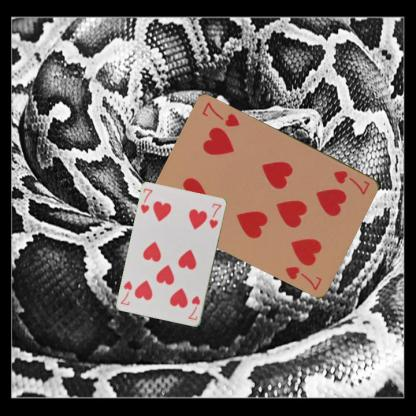7h: (331, 168, 372, 198), (138, 186, 154, 215), (186, 294, 202, 321)
